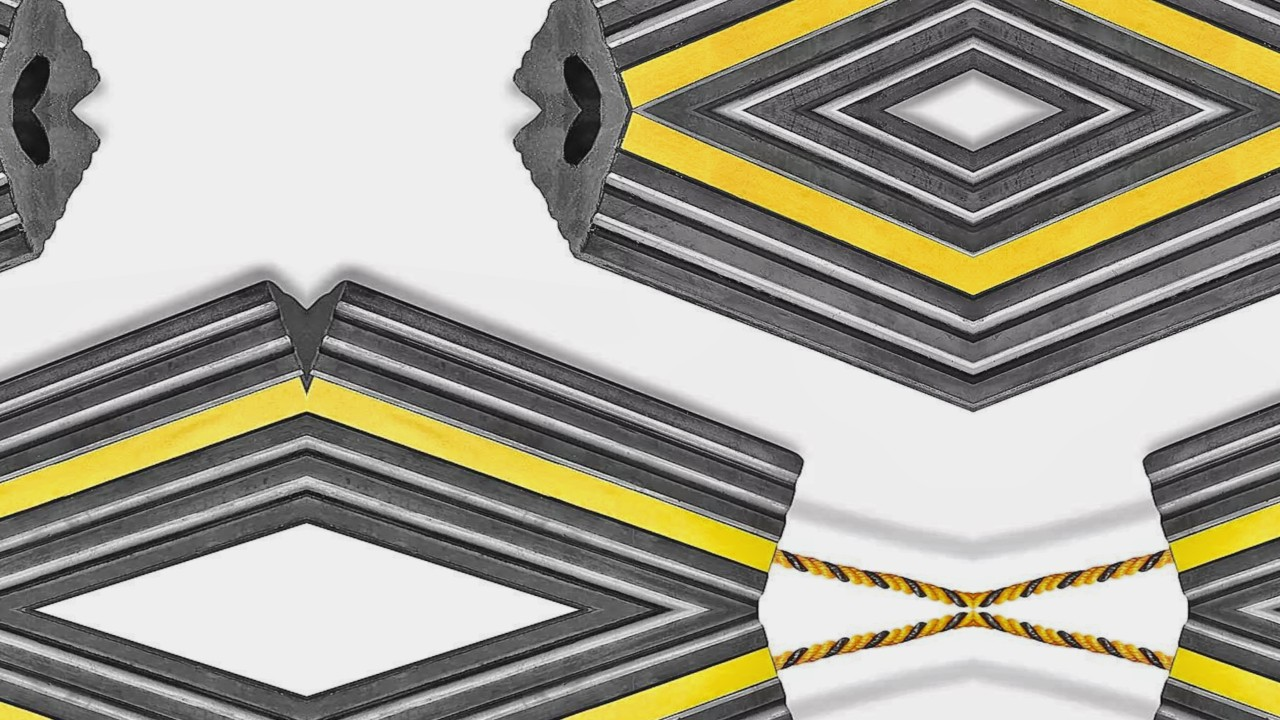chock: (307, 261, 844, 610), (468, 110, 973, 468), (973, 110, 1280, 468), (0, 261, 307, 610), (1103, 261, 1280, 610), (307, 610, 844, 720), (468, 0, 973, 110), (0, 110, 145, 468), (973, 0, 1280, 110), (0, 610, 307, 720), (1103, 610, 1280, 720)
